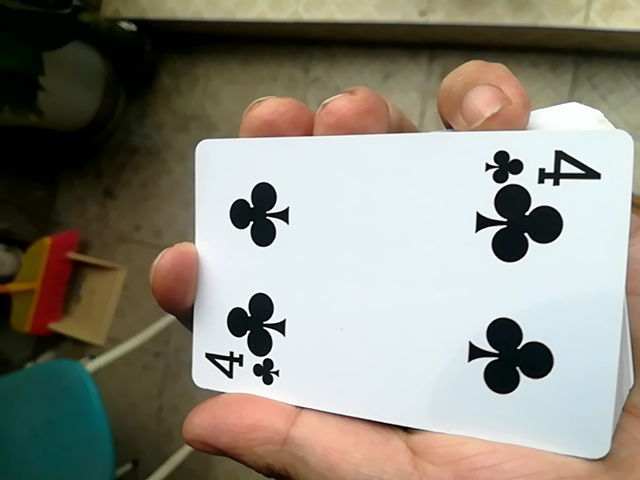mh 4: (188, 114, 629, 458)
